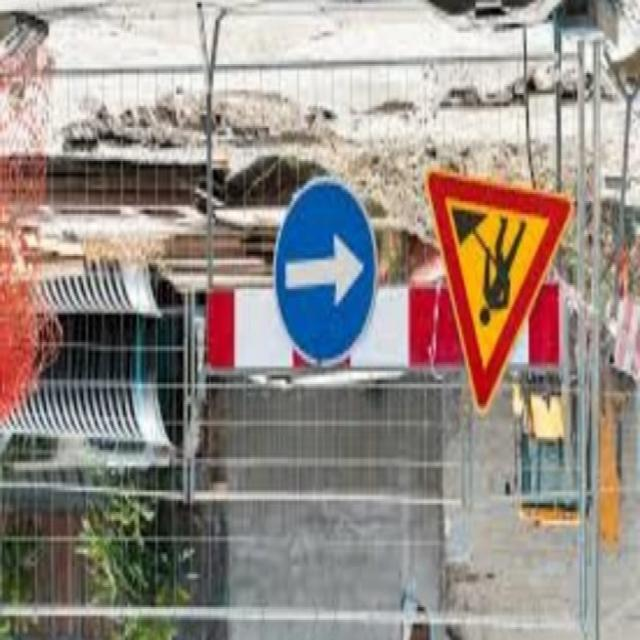Turn Right: (275, 183, 376, 362)
